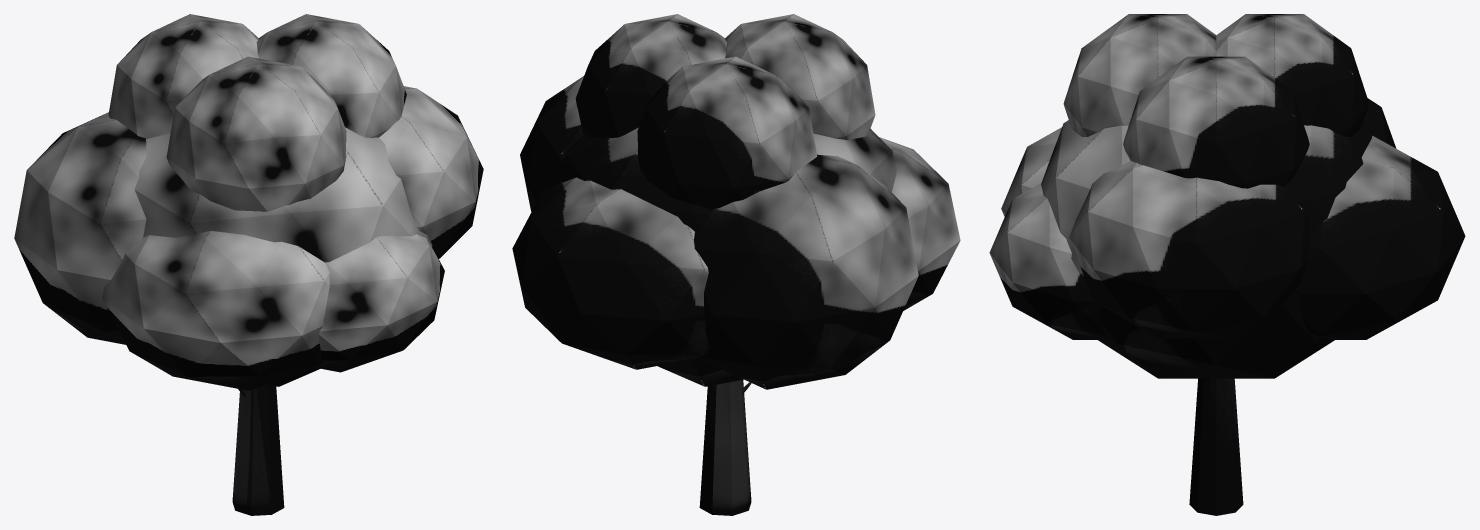
The model's file is tree_oak_small.glb.
3 views of the same model, side by side, from view 1: azimuth 30°, elevation 25°; view 2: azimuth 150°, elevation 25°; view 3: azimuth 270°, elevation 25° (orthographic).
Visible parts, largest first — view 1: tree_oak_small; view 2: tree_oak_small; view 3: tree_oak_small.
Boxes of the visible parts, left/top/right/bottom form: tree_oak_small: left=14, top=14, right=483, bottom=515; tree_oak_small: left=512, top=14, right=960, bottom=515; tree_oak_small: left=989, top=14, right=1465, bottom=515.
Bounding box in the file's own units: 2.96 × 3.38 × 3.09.
Materials: 1 (1 with a texture image).
